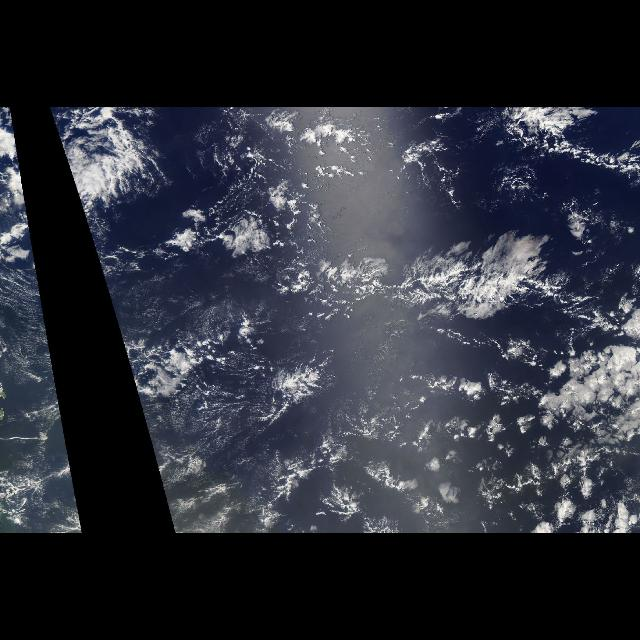Fish: (278, 245, 550, 325)
Sugar: (348, 333, 638, 529), (1, 267, 66, 478)
